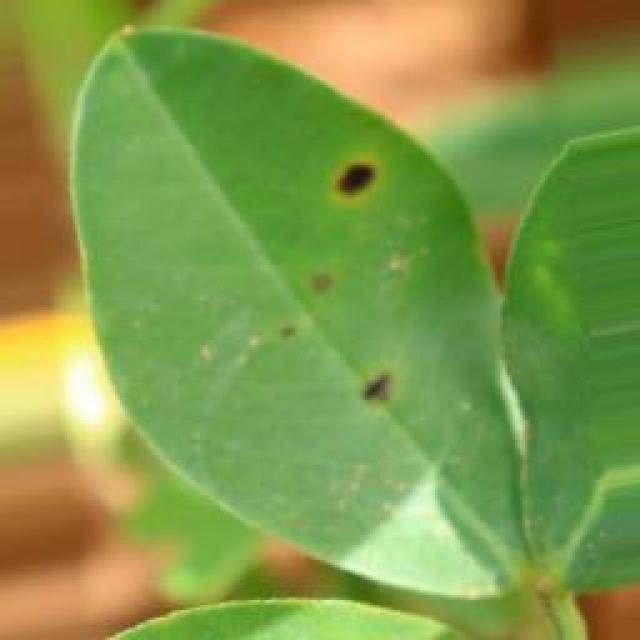Sigatoka: (242, 223, 354, 378), (313, 126, 399, 232), (350, 347, 428, 426)
